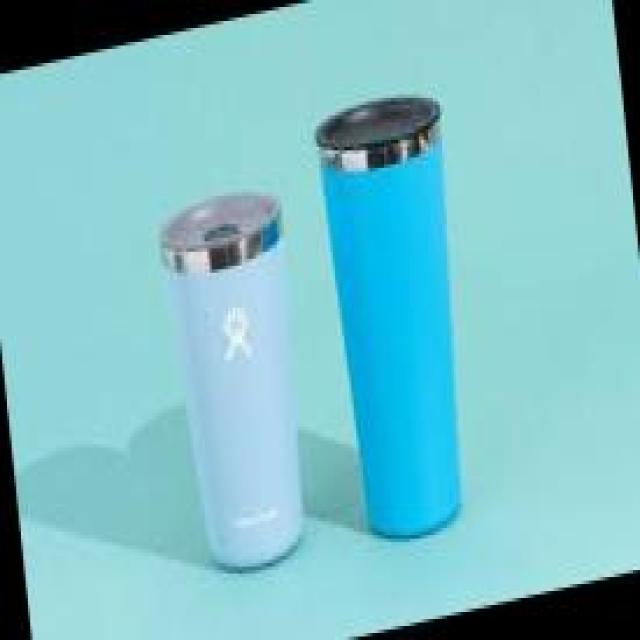bottle: (308, 79, 487, 547), (150, 175, 318, 584)
